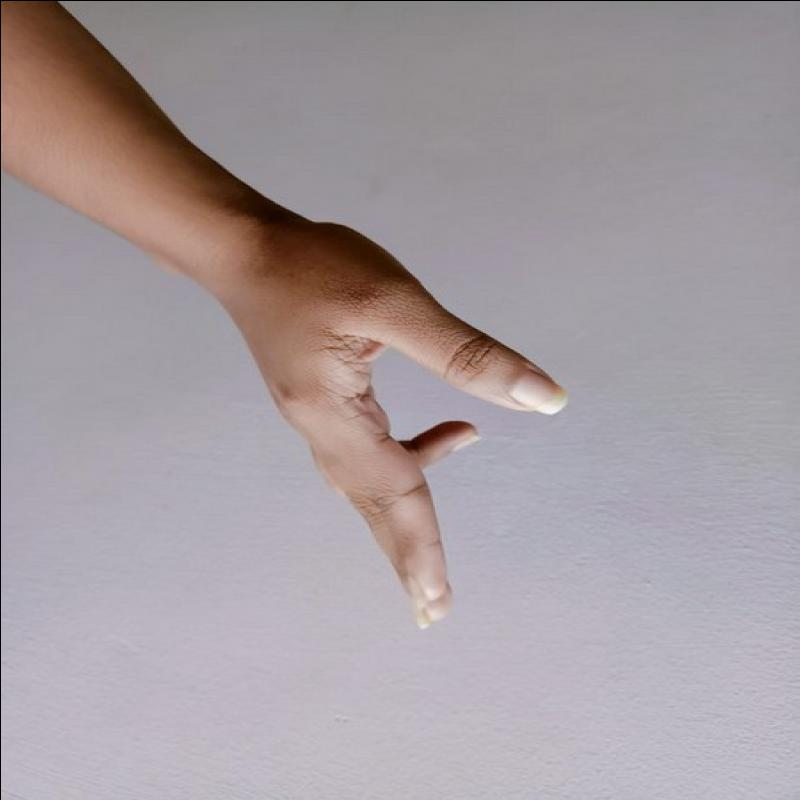Pathaaka: (215, 187, 590, 640)
